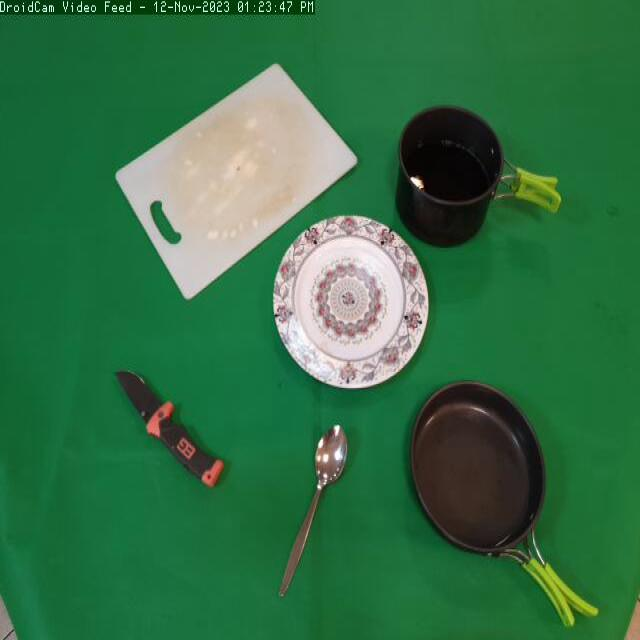cutting board: (106, 58, 360, 304)
fullpot: (386, 95, 562, 257)
knife: (112, 349, 230, 498)
pan: (402, 375, 606, 640)
plate: (268, 213, 430, 401)
spoon: (274, 418, 360, 594)
